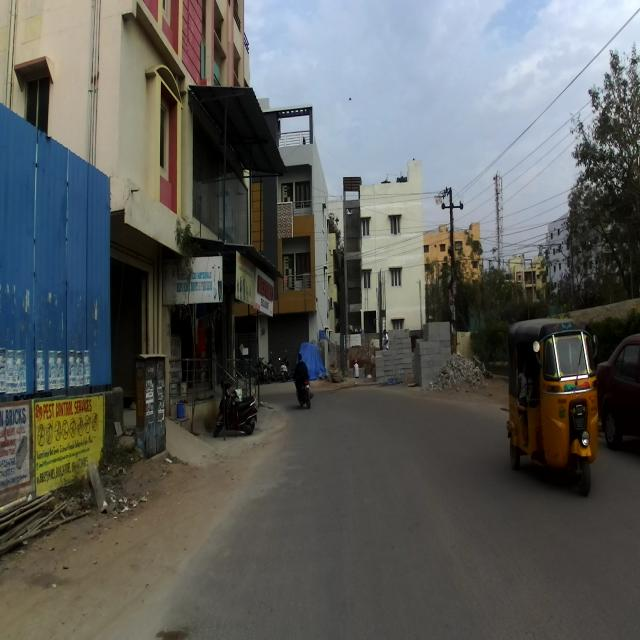auto ahead at: (507, 321, 601, 498)
barrier ahead at: (138, 356, 169, 452)
